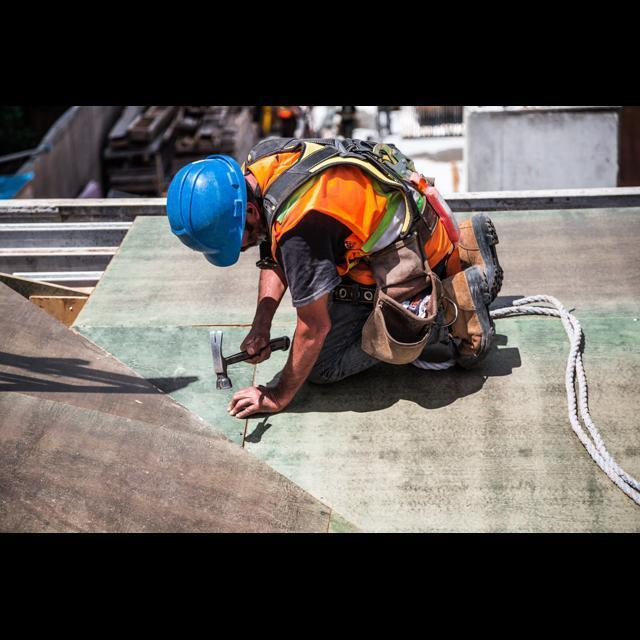helmet: (160, 152, 248, 276)
safety_vest: (243, 130, 456, 296)
